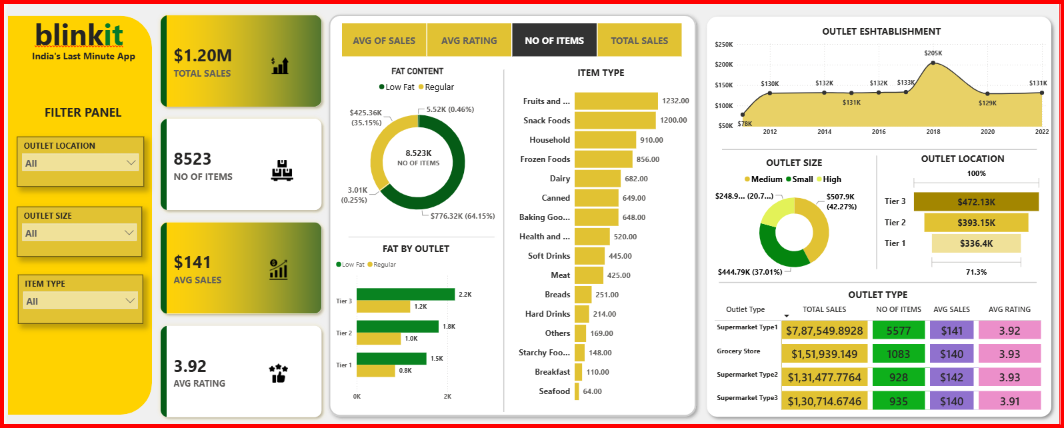

What the dashboard file says about the page in this screenshot:
{"tool":"powerbi","page":{"name":"Blinkit Dashboard","canvas":[2100,856],"ordinal":0},"visuals":[{"type":"shape","box":[0,26,288,798],"z":0},{"type":"textbox","box":[16.9,16.9,251.6,105.7],"z":1000},{"type":"textbox","box":[16.9,90.9,270.6,44.4],"z":2000},{"type":"cardVisual","fields":{"Data":["BlinkIT Grocery Data.Total sales","BlinkIT Grocery Data.No of Items","BlinkIT Grocery Data.Average of sales","BlinkIT Grocery Data.AVG RATING"]},"box":[288,8,356,840],"z":3000},{"type":"image","box":[526.4,101.5,35.9,48.6],"z":4000},{"type":"image","box":[526.4,308.7,44.4,55],"z":5000},{"type":"image","box":[522.2,708.2,38.1,65.5],"z":6000},{"type":"image","box":[520.1,505.3,42.3,55],"z":7000},{"type":"shape","box":[630,12,758,827],"z":8000},{"type":"slicer","title":"Fat Content","fields":{"Values":["matrics.matrics"]},"box":[642.7,33.8,729.4,80.3],"z":9000},{"type":"donutChart","title":"FAT CONTENT","fields":{"Y":["BlinkIT Grocery Data.NO OF ITEMS","BlinkIT Grocery Data.TOTAL SALES"],"Category":["BlinkIT Grocery Data.Item Fat Content"]},"box":[648.6,126.7,342.3,332.8],"z":10000},{"type":"cardVisual","fields":{"Data":["BlinkIT Grocery Data.NO OF ITEMS"]},"box":[727.3,247.4,186,122.6],"z":11000},{"type":"clusteredBarChart","title":"FAT BY OUTLET","fields":{"Y":["BlinkIT Grocery Data.NO OF ITEMS"],"Category":["BlinkIT Grocery Data.Outlet Location Type"],"Series":["BlinkIT Grocery Data.Item Fat Content"]},"box":[649,477.8,331.9,327.7],"z":12000},{"type":"shape","box":[671.3,459.5,310.1,9.5],"z":13000},{"type":"shape","box":[980.9,133.2,23.3,685],"z":14000},{"type":"barChart","title":"ITEM TYPE","fields":{"Y":["BlinkIT Grocery Data.NO OF ITEMS"],"Category":["BlinkIT Grocery Data.Item Type"]},"box":[1004.2,126.8,363.6,689.2],"z":15000},{"type":"shape","box":[1386.9,16.9,712.5,824],"z":16000},{"type":"lineChart","title":"OUTLET ESHTABLISHMENT","fields":{"Category":["BlinkIT Grocery Data.Outlet Establishment Year"],"Y":["BlinkIT Grocery Data.TOTAL SALES"]},"box":[1408,44.4,678.6,232.6],"z":17000},{"type":"donutChart","title":"OUTLET SIZE","fields":{"Category":["BlinkIT Grocery Data.Outlet Size"],"Y":["BlinkIT Grocery Data.TOTAL SALES"]},"box":[1401.7,306.5,340.4,249.5],"z":18000},{"type":"shape","box":[1422.1,550.3,635.4,18.9],"z":19000},{"type":"shape","box":[1728.4,306.4,18.9,226.9],"z":20000},{"type":"funnel","title":"OUTLET LOCATION","fields":{"Y":["BlinkIT Grocery Data.TOTAL SALES"],"Category":["BlinkIT Grocery Data.Outlet Location Type"]},"box":[1748.4,298.1,323.5,257.9],"z":21000},{"type":"pivotTable","title":"OUTLET TYPE","fields":{"Values":["BlinkIT Grocery Data.TOTAL SALES","BlinkIT Grocery Data.NO OF ITEMS","BlinkIT Grocery Data.AVG SALES","BlinkIT Grocery Data.AVG RATING"],"Rows":["BlinkIT Grocery Data.Outlet Type"]},"box":[1408.8,569.2,663.8,253.4],"z":22000},{"type":"shape","box":[1427.8,287.4,629.7,11.3],"z":23000},{"type":"slicer","fields":{"Values":["BlinkIT Grocery Data.Outlet Size"]},"box":[18,408,250,100],"z":23001},{"type":"slicer","fields":{"Values":["BlinkIT Grocery Data.Outlet Location Type"]},"box":[18,268,254,100],"z":23002},{"type":"slicer","fields":{"Values":["BlinkIT Grocery Data.Item Type"]},"box":[20,544,250,98],"z":23003},{"type":"textbox","box":[25.4,196.6,248,50.7],"z":23004}]}

Visuals, with their boxes in screenshot pixels (x1, y1, x2, y2), scaled from the page's 2100x856 canvas onto the 1064x428 screenshot:
shape: x1=0 y1=13 x2=146 y2=412
textbox: x1=9 y1=8 x2=136 y2=61
textbox: x1=9 y1=45 x2=146 y2=68
cardVisual - BlinkIT Grocery Data.Total sales x BlinkIT Grocery Data.No of Items: x1=146 y1=4 x2=326 y2=424
image: x1=267 y1=51 x2=285 y2=75
image: x1=267 y1=154 x2=289 y2=182
image: x1=265 y1=354 x2=284 y2=387
image: x1=264 y1=253 x2=285 y2=280
shape: x1=319 y1=6 x2=703 y2=420
"Fat Content" slicer: x1=326 y1=17 x2=695 y2=57
"FAT CONTENT" donutChart: x1=329 y1=63 x2=502 y2=230
cardVisual - BlinkIT Grocery Data.NO OF ITEMS: x1=368 y1=124 x2=463 y2=185
"FAT BY OUTLET" clusteredBarChart: x1=329 y1=239 x2=497 y2=403
shape: x1=340 y1=230 x2=497 y2=234
shape: x1=497 y1=67 x2=509 y2=409
"ITEM TYPE" barChart: x1=509 y1=63 x2=693 y2=408
shape: x1=703 y1=8 x2=1063 y2=420
"OUTLET ESHTABLISHMENT" lineChart: x1=713 y1=22 x2=1057 y2=138
"OUTLET SIZE" donutChart: x1=710 y1=153 x2=883 y2=278
shape: x1=721 y1=275 x2=1042 y2=285
shape: x1=876 y1=153 x2=885 y2=267
"OUTLET LOCATION" funnel: x1=886 y1=149 x2=1050 y2=278
"OUTLET TYPE" pivotTable: x1=714 y1=285 x2=1050 y2=411
shape: x1=723 y1=144 x2=1042 y2=149
slicer - BlinkIT Grocery Data.Outlet Size: x1=9 y1=204 x2=136 y2=254
slicer - BlinkIT Grocery Data.Outlet Location Type: x1=9 y1=134 x2=138 y2=184
slicer - BlinkIT Grocery Data.Item Type: x1=10 y1=272 x2=137 y2=321
textbox: x1=13 y1=98 x2=139 y2=124
